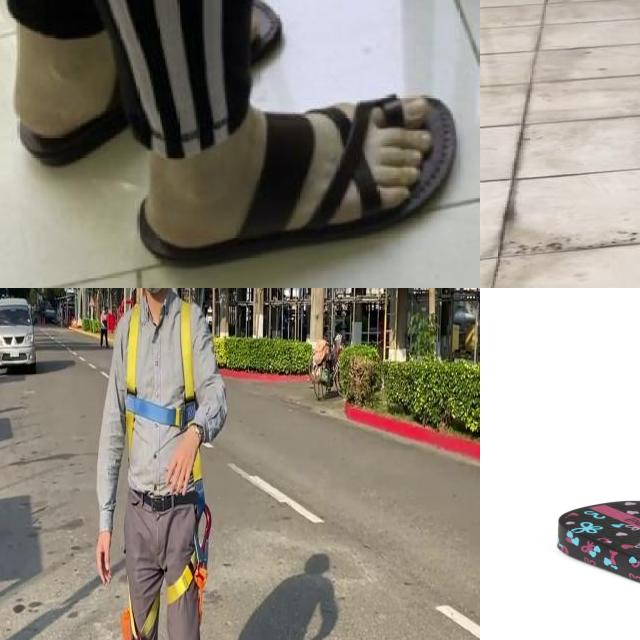Harness: (122, 460, 213, 640), (125, 301, 198, 448)
Sandals: (132, 76, 467, 268), (554, 498, 640, 640)
